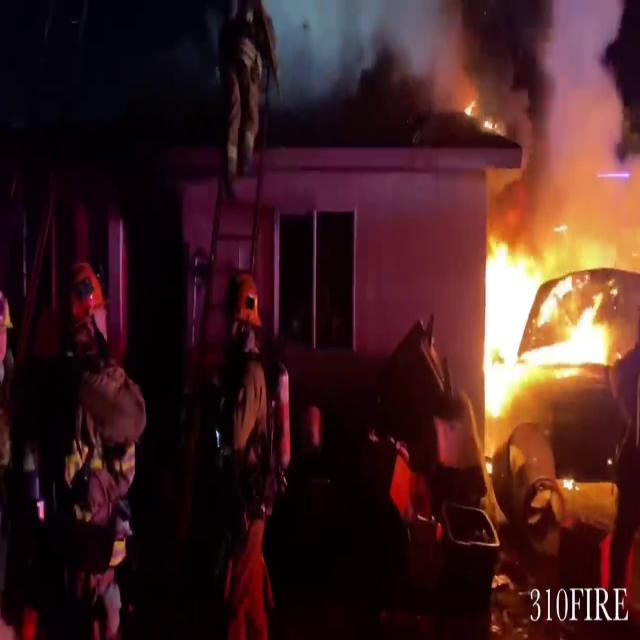Fire: (476, 224, 628, 419)
Smoke: (483, 0, 640, 258)
